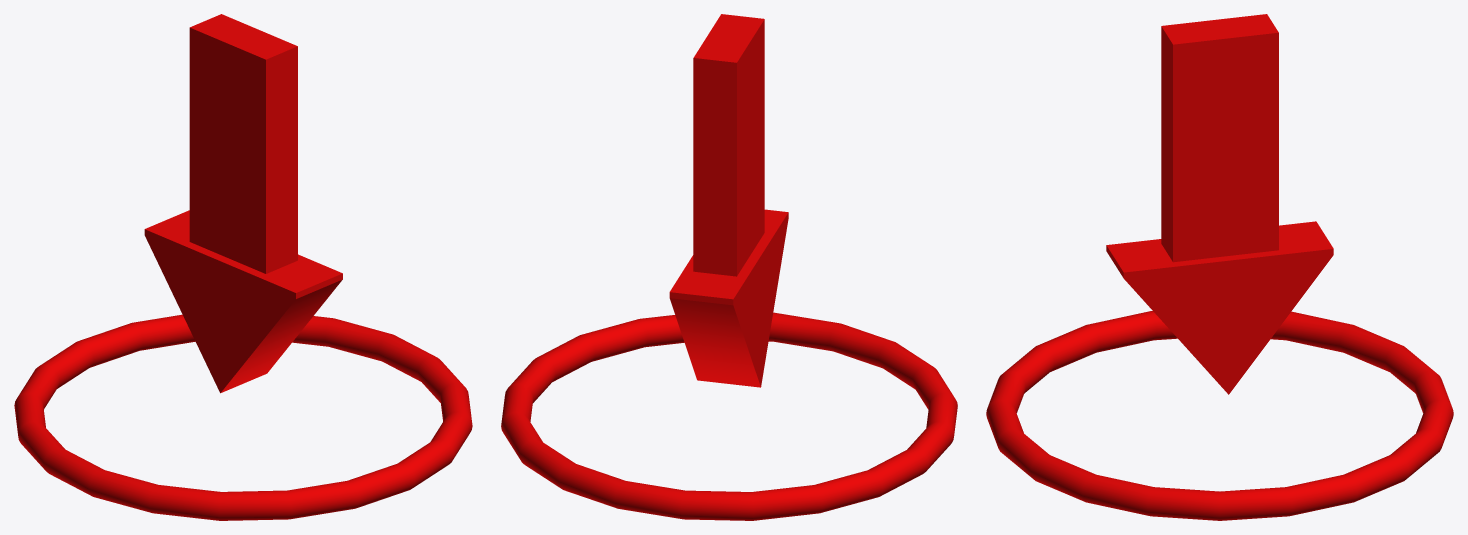
File: asset_arrow_down.fbx
The picture shows the model from 3 angles, left to right: view 1: azimuth 30°, elevation 25°; view 2: azimuth 150°, elevation 25°; view 3: azimuth 270°, elevation 25°; orthographic projection.
Visible parts, largest first — view 1: pCube4, pTorus1; view 2: pCube4, pTorus1; view 3: pCube4, pTorus1.
Boxes of the visible parts, x1,y1,x2,y2 form: pCube4: (144,14,342,393); pTorus1: (14,314,472,520); pCube4: (669,14,788,387); pTorus1: (501,312,957,520); pCube4: (1106,14,1333,394); pTorus1: (986,311,1453,520).
Bounding box in the file's own units: 11.76 × 11.04 × 11.76.
